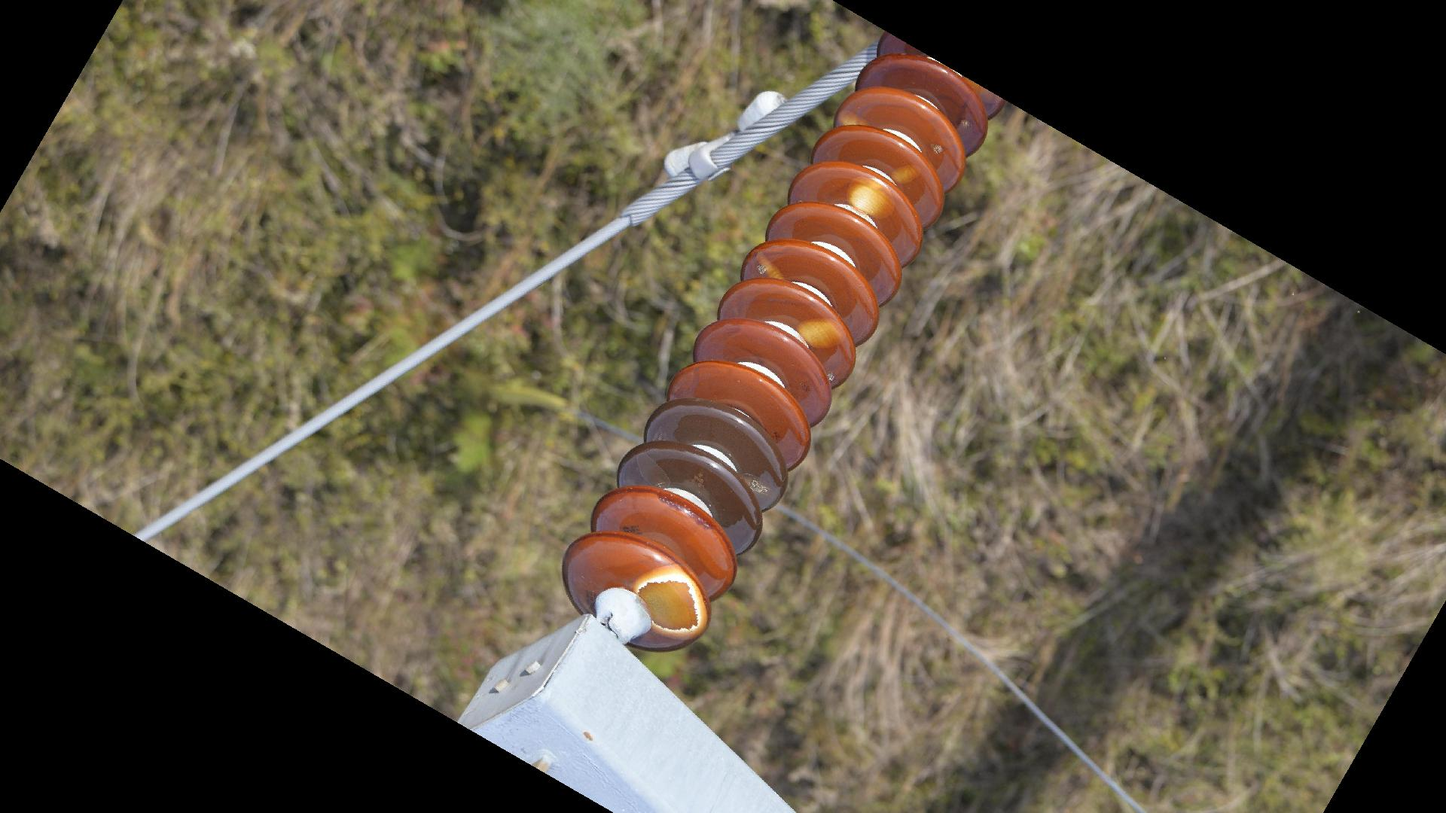insulator: (556, 29, 1006, 658)
insulator_flashover: (636, 576, 701, 633), (844, 174, 897, 221), (796, 316, 848, 352), (634, 449, 673, 490), (755, 249, 786, 282), (888, 160, 923, 184), (837, 106, 871, 129)
